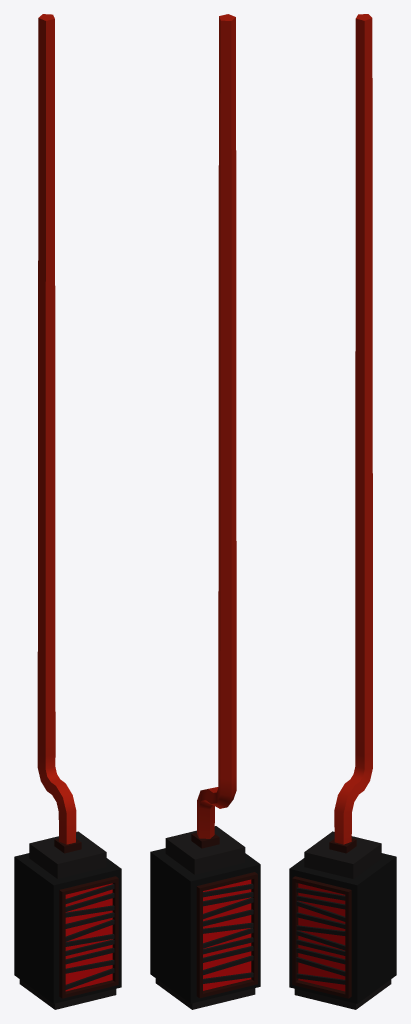
Rendered from cal_uno.fbx.
3 renders of one model, left to right at view 1: azimuth 30°, elevation 25°; view 2: azimuth 210°, elevation 25°; view 3: azimuth 330°, elevation 25°, orthographic. The views are drawn at different scales.
Parts seen in each view (by area): view 1: cal_uno; view 2: cal_uno; view 3: cal_uno.
Part boxes in pixels (x1,y1,x2,y2): cal_uno: [14, 14, 121, 1009]; cal_uno: [150, 14, 260, 1009]; cal_uno: [289, 14, 396, 1009].
Size of the model in its own units: 150 by 2018 by 184.
